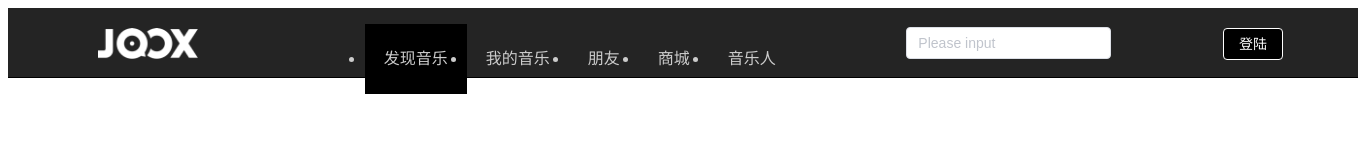
it: header 组件 › 测试 navlist
Note: element组件还是要findComponent
Type "aaaaaa" into the field with placeholder "Please input".
click(1009, 43); type("aaaaaa")  # box x1=906 y1=27 x2=1111 y2=59
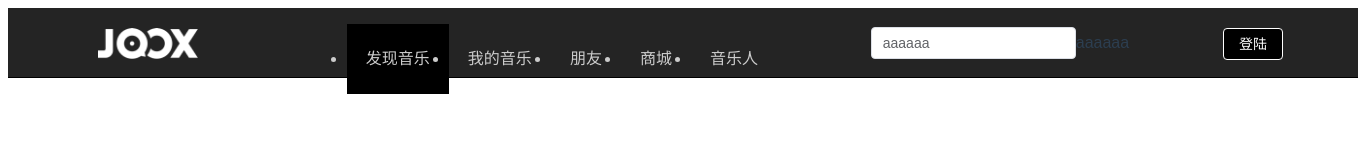
Result: the text with class "searchSpan" reads "aaaaaa" at x1=1076 y1=34 x2=1129 y2=51
